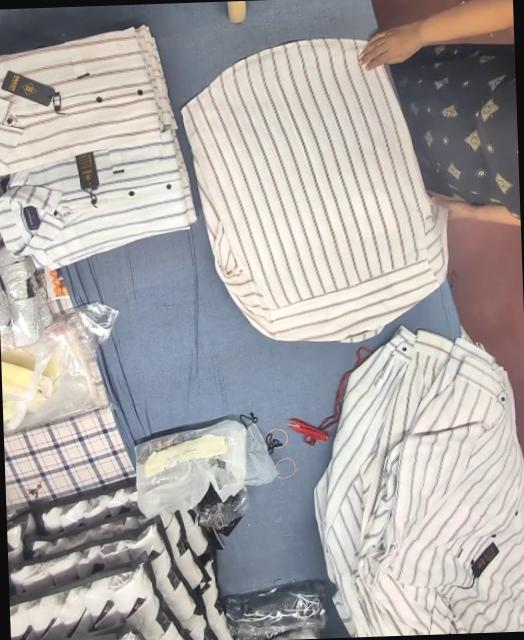new-garment: (182, 38, 446, 340)
